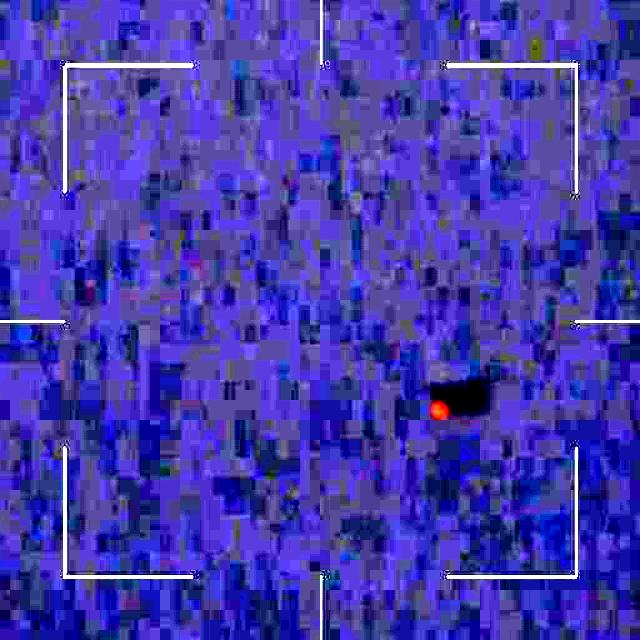bird: (425, 384, 456, 429)
